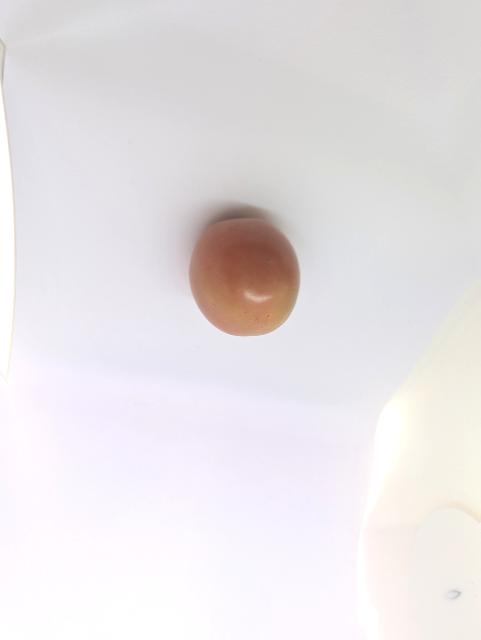turning: (183, 215, 309, 345)
